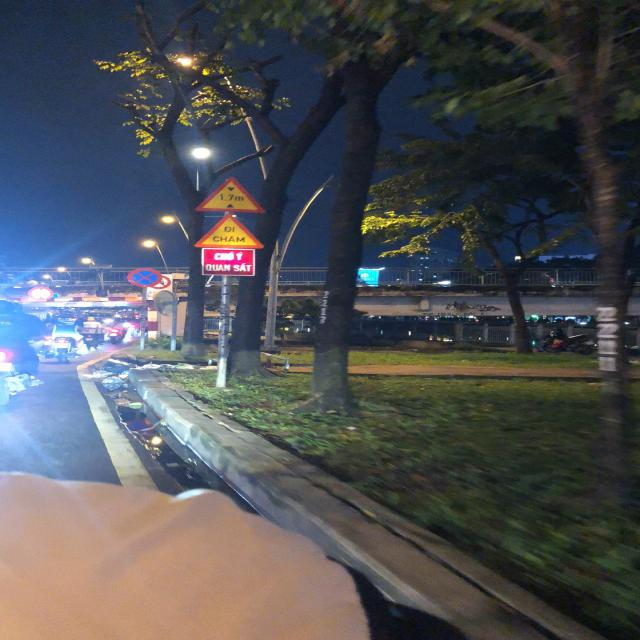Bien bao cam dung xe va do xe: (122, 265, 166, 288)
Bien bao chieu cao tinh khong thuc te: (182, 174, 270, 214)
Bien bao di cham: (190, 213, 266, 252)
